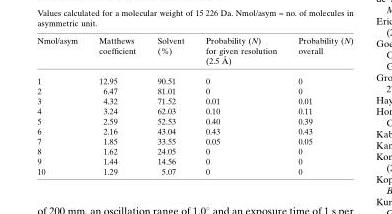table: (36, 36, 352, 175)
table column: (194, 36, 286, 175), (286, 36, 352, 175), (87, 36, 146, 175), (36, 36, 87, 175), (146, 36, 194, 175)
table column header: (36, 36, 352, 70)
table row: (36, 36, 352, 70), (36, 70, 352, 86), (36, 86, 352, 96), (36, 96, 352, 106), (36, 106, 352, 116), (36, 116, 352, 126), (36, 126, 352, 136), (36, 136, 352, 146), (36, 146, 352, 156), (36, 156, 352, 166), (36, 166, 352, 175)
